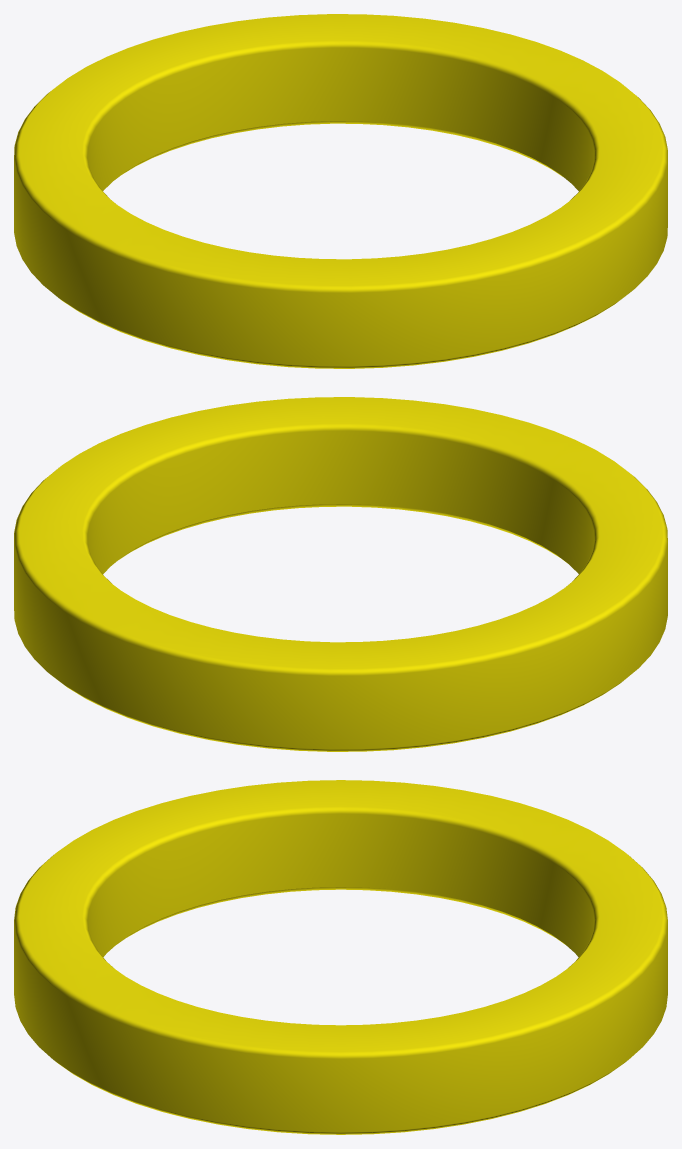
3 renders of one model, top to bottom at view 1: azimuth 30°, elevation 25°; view 2: azimuth 150°, elevation 25°; view 3: azimuth 270°, elevation 25°, orthographic.
Parts seen in each view (by area): view 1: seal_body; view 2: seal_body; view 3: seal_body.
Boxes of the visible parts, box(x1,y1,x2,y2) form: seal_body: box(14, 14, 667, 368); seal_body: box(14, 397, 667, 751); seal_body: box(14, 780, 667, 1134).
Size of the model in its own units: 0.041 by 0.00575 by 0.041.
